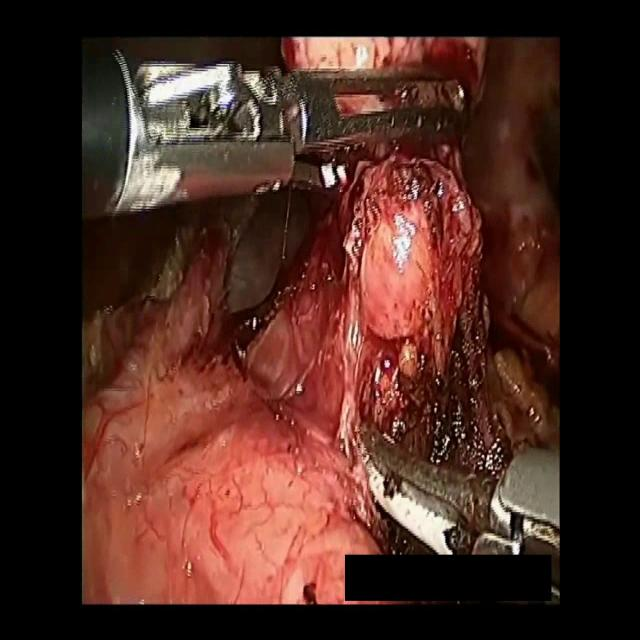surgical-area: (78, 29, 563, 604)
surgical-tool: (78, 50, 471, 222), (357, 413, 564, 612)
